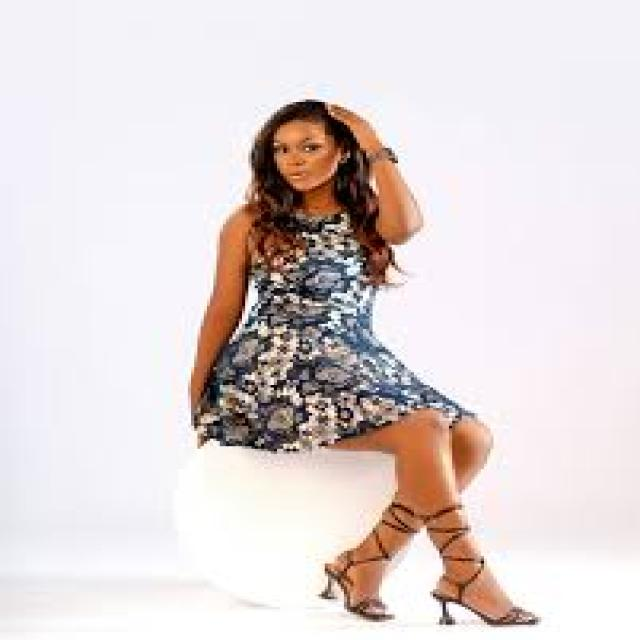Edited images: (169, 87, 585, 637)
